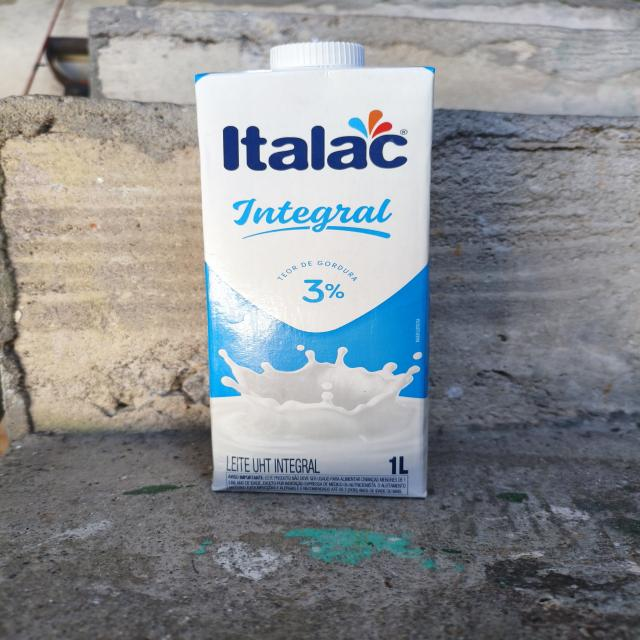Caixa de Leite: (189, 36, 441, 500)
